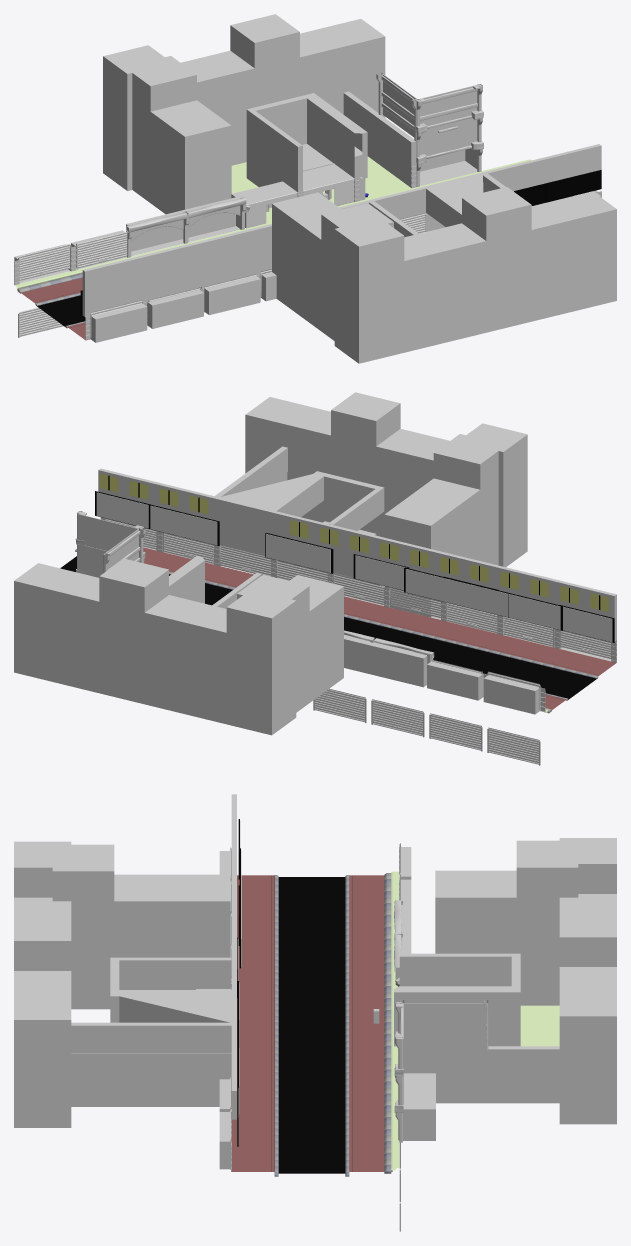
Rendered from tutorial_level_env002.fbx.
The picture shows the model from 3 angles, top to bottom: view 1: azimuth 30°, elevation 25°; view 2: azimuth 150°, elevation 25°; view 3: azimuth 270°, elevation 25°; orthographic projection. The views are drawn at different scales.
Visible parts, largest first — view 1: Cube.110, Cube.105, Cube.039, Cube.232, Cube.072, Cube.231, Cube.111, Cube.043, Cube.017, Cube.010, Cube.011, Cube.062 (+18 smaller); view 2: Cube.231, Cube.072, Cube.039, Cube.105, Cube.111, Cube.110, Cube.232, Cube.022, Cube.031, Cube, Cube.062, Cube.019 (+23 smaller); view 3: Cube, Cube.111, Cube.232, Cube.072, Cube.105, Cube.022, Cube.014, Cube.039, Cube.061, Cube.011, Cube.017, Cube.062 (+11 smaller).
Boxes of the visible parts, box(x1,y1,x2,y2) form: Cube.110: box(334, 218, 489, 363); Cube.105: box(462, 187, 616, 332); Cube.039: box(82, 173, 483, 316); Cube.232: box(132, 56, 231, 214); Cube.072: box(230, 14, 385, 117); Cube.231: box(103, 45, 258, 190); Cube.111: box(272, 192, 393, 340); Cube.043: box(91, 272, 276, 342); Cube.017: box(246, 93, 367, 178); Cube.010: box(246, 122, 365, 201); Cube.011: box(343, 91, 416, 187); Cube.062: box(481, 144, 601, 192); Cube.231: box(141, 589, 296, 735); Cube.072: box(14, 558, 168, 703); Cube.039: box(217, 471, 616, 641); Cube.105: box(245, 392, 400, 532); Cube.111: box(384, 434, 498, 617); Cube.110: box(372, 423, 527, 567); Cube.232: box(237, 574, 343, 712); Cube.022: box(143, 547, 615, 676); Cube.031: box(313, 688, 540, 765); Cube: box(60, 556, 597, 700); Cube.062: box(98, 446, 287, 520); Cube.019: box(427, 661, 539, 714); Cube: box(278, 877, 345, 1173); Cube.111: box(52, 844, 230, 1009); Cube.232: box(435, 840, 578, 1005); Cube.072: box(559, 911, 616, 1124); Cube.105: box(14, 915, 71, 1127); Cube.022: box(231, 875, 274, 1171); Cube.014: box(349, 875, 392, 1171); Cube.039: box(110, 794, 236, 1022); Cube.061: box(71, 1053, 231, 1106); Cube.011: box(403, 1046, 559, 1103); Cube.017: box(394, 953, 520, 1046); Cube.062: box(71, 1022, 236, 1119).
Bounding box in the file's own units: 10141 × 3174 × 8592.
